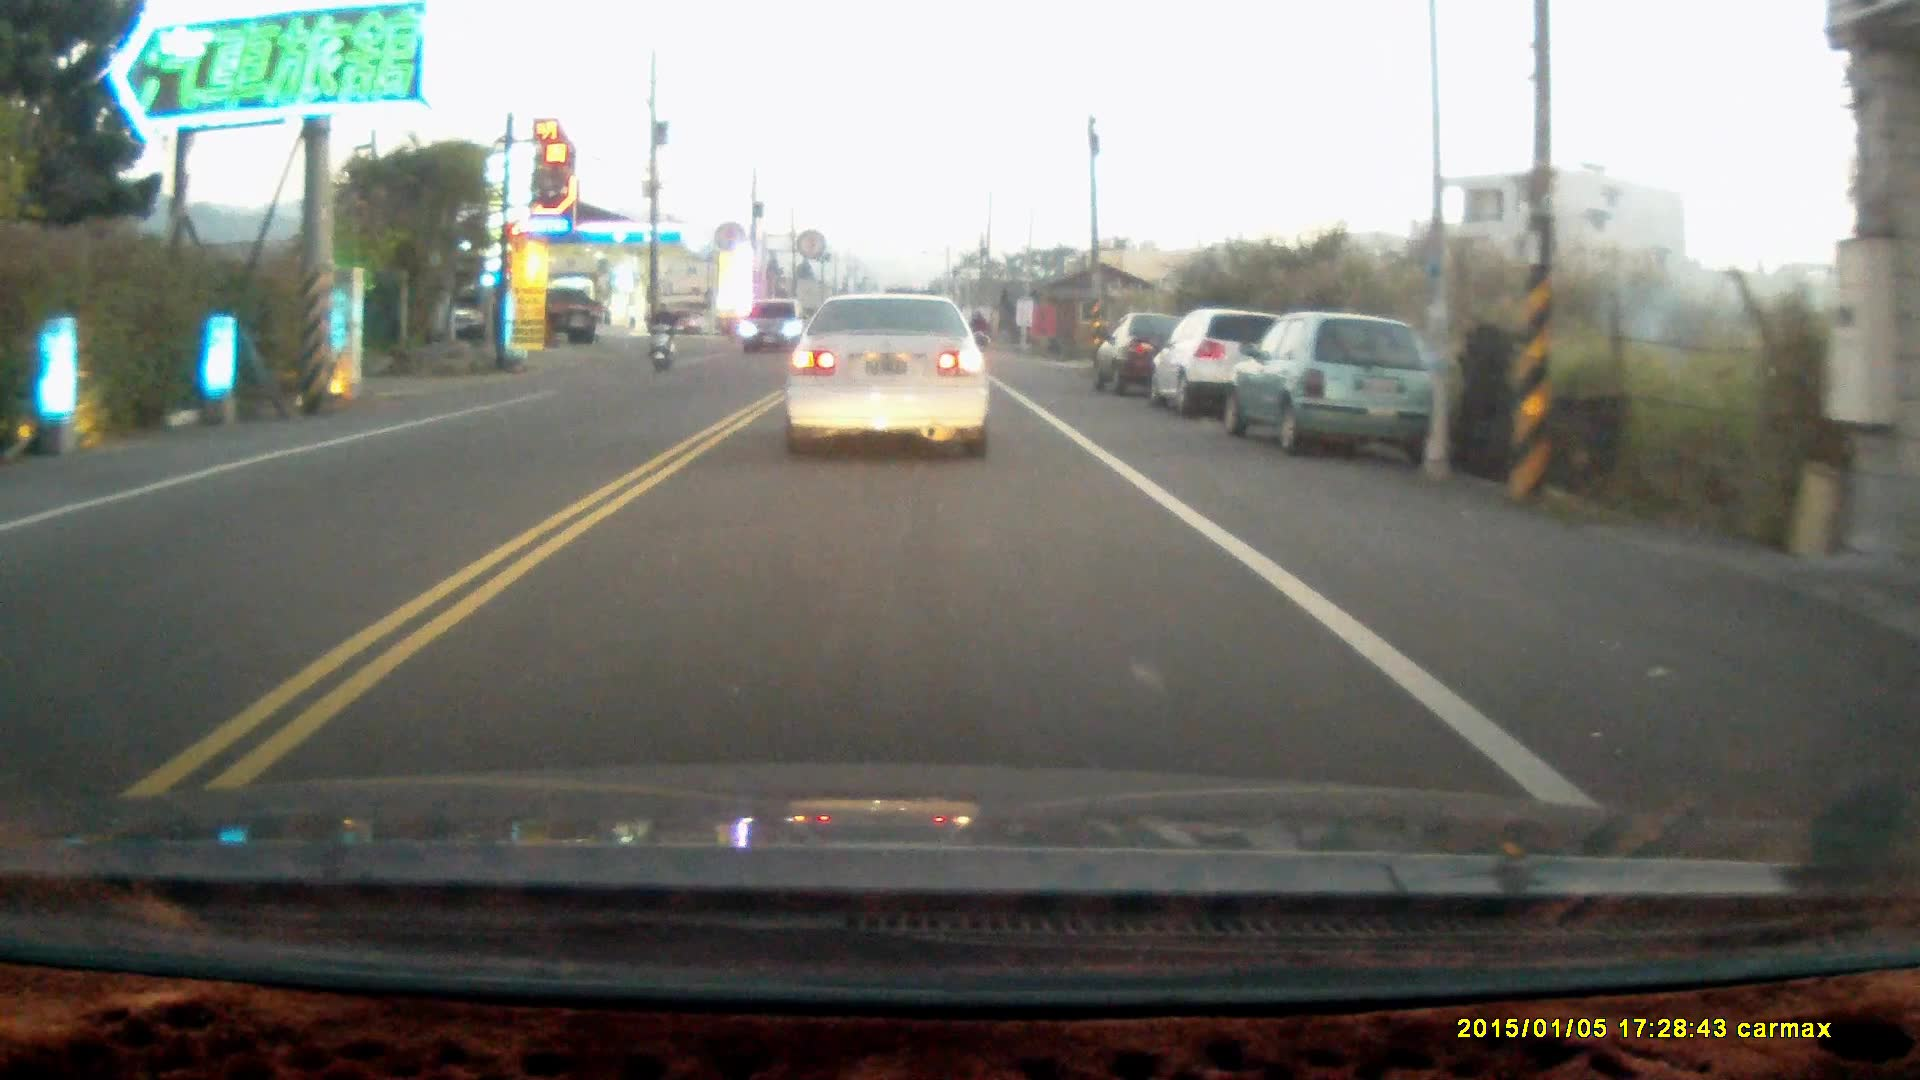rider: (645, 300, 677, 372)
vehicle: (785, 290, 997, 462), (1217, 311, 1442, 458), (1157, 308, 1282, 419), (1097, 311, 1194, 396), (745, 302, 809, 355)
